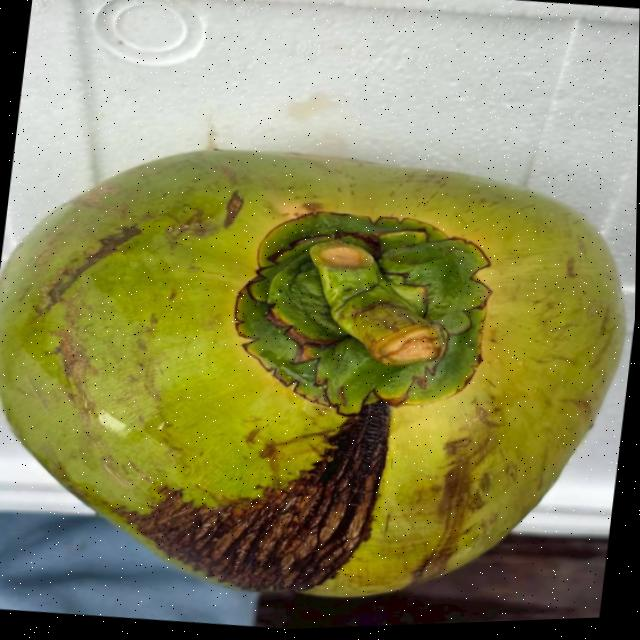coco_2.0: (173, 164, 559, 454)
